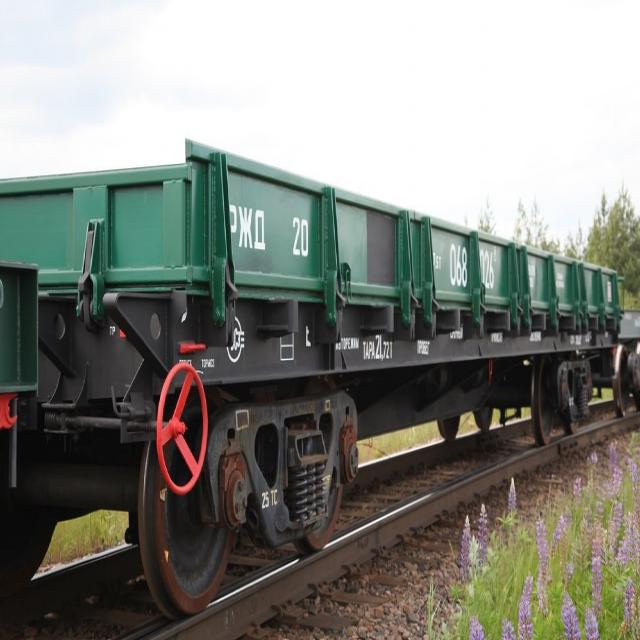flatcar: (40, 284, 640, 615)
